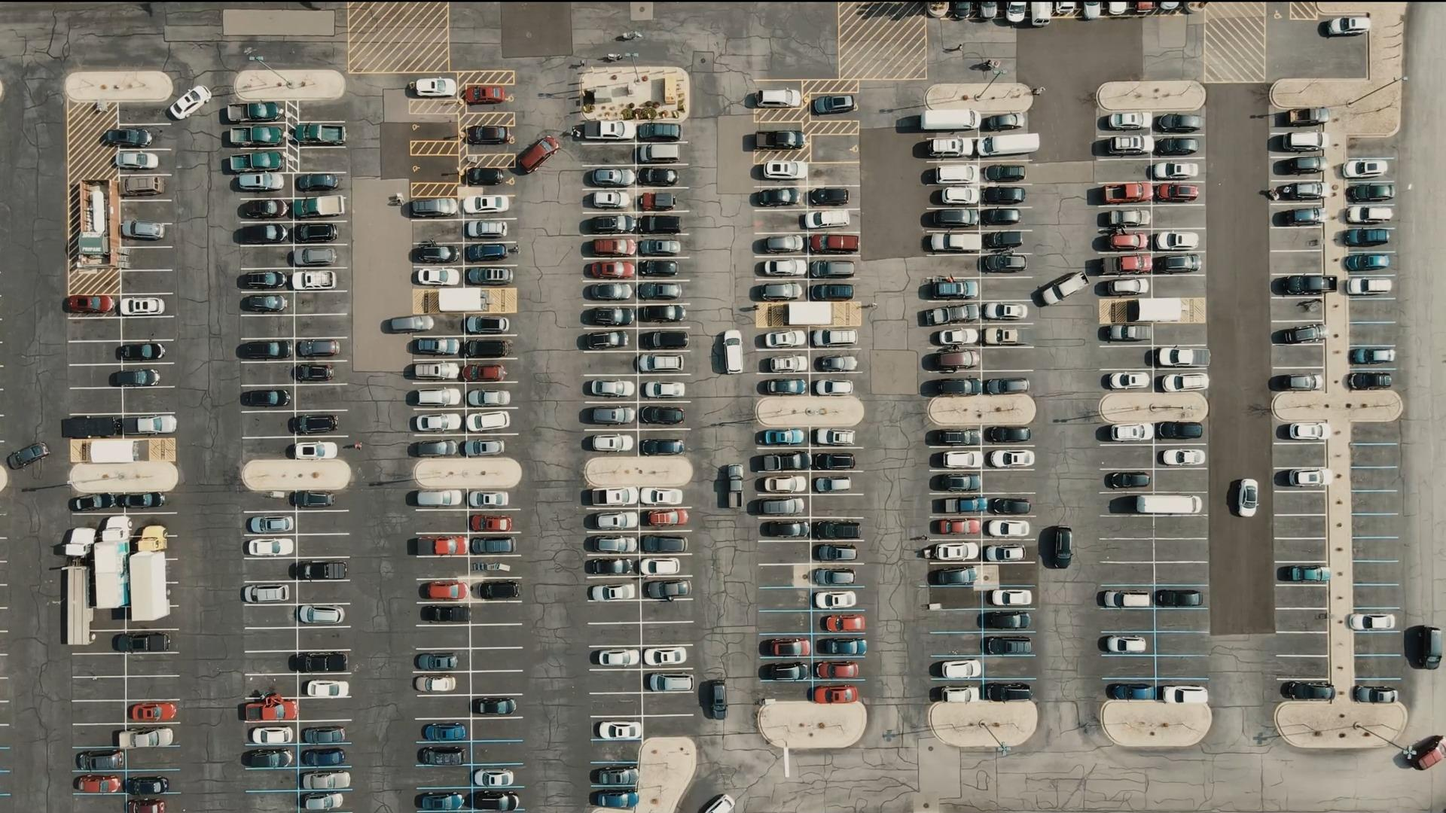occupied: (515, 135, 560, 175), (1036, 272, 1087, 307), (1405, 625, 1443, 669), (167, 84, 212, 120), (244, 696, 297, 722), (7, 442, 51, 470), (293, 123, 346, 145), (1281, 680, 1336, 701), (292, 652, 347, 673), (230, 126, 284, 147), (1230, 478, 1259, 517), (224, 154, 280, 174), (113, 633, 170, 652), (230, 102, 284, 122), (720, 329, 743, 375), (297, 195, 345, 217), (295, 561, 347, 581), (1049, 526, 1073, 569), (1322, 16, 1371, 37), (242, 749, 293, 769), (1285, 274, 1336, 294), (582, 121, 633, 141), (129, 701, 177, 722), (61, 528, 98, 555), (475, 790, 520, 812), (241, 199, 288, 220), (125, 728, 174, 748), (984, 683, 1033, 703), (1343, 159, 1392, 179), (77, 751, 123, 772), (418, 746, 466, 766), (302, 770, 350, 790), (417, 792, 467, 811), (112, 369, 162, 388), (64, 296, 114, 315), (123, 174, 166, 196), (1281, 131, 1326, 152), (291, 414, 338, 434), (935, 323, 977, 345), (302, 747, 348, 767), (1107, 683, 1158, 701), (105, 128, 153, 147), (1281, 325, 1329, 344), (297, 605, 345, 624), (74, 774, 122, 793), (117, 343, 165, 362), (410, 198, 458, 217), (812, 94, 855, 115), (812, 215, 855, 236), (934, 142, 977, 163), (932, 207, 975, 228), (939, 232, 982, 253), (984, 323, 1027, 344), (981, 234, 1024, 255), (938, 282, 981, 303), (978, 260, 1021, 281), (979, 303, 1022, 324), (984, 376, 1027, 397), (932, 372, 975, 393), (927, 348, 970, 369), (1283, 469, 1333, 487), (938, 659, 983, 679), (1345, 204, 1390, 224), (461, 85, 508, 104), (1284, 107, 1331, 126), (1162, 685, 1209, 704), (243, 584, 290, 603), (1345, 253, 1392, 272), (758, 130, 805, 149), (939, 182, 981, 203), (935, 163, 977, 184), (800, 184, 842, 205), (121, 219, 165, 239), (1106, 135, 1150, 155), (813, 684, 857, 704), (1155, 110, 1199, 130), (1160, 183, 1204, 203), (1107, 209, 1151, 229), (1091, 182, 1135, 202), (1159, 189, 1203, 209), (1108, 251, 1152, 271), (1094, 229, 1138, 249), (1150, 239, 1194, 259), (1152, 158, 1196, 178), (1272, 156, 1316, 176), (1277, 179, 1321, 199), (1155, 453, 1199, 473), (1161, 422, 1205, 442), (124, 776, 170, 795), (1286, 422, 1332, 441), (594, 767, 640, 786), (1346, 277, 1392, 296), (595, 721, 641, 740), (291, 441, 337, 460), (1105, 112, 1151, 131), (295, 173, 343, 191), (1278, 208, 1326, 226), (236, 172, 284, 190), (72, 493, 120, 511), (1159, 348, 1207, 366), (299, 336, 342, 356), (248, 387, 291, 407), (423, 723, 468, 742), (756, 88, 801, 107), (302, 727, 347, 746), (594, 790, 639, 809), (249, 726, 294, 745), (1280, 565, 1330, 582), (1156, 590, 1203, 608), (1350, 347, 1397, 365), (241, 271, 288, 289), (414, 77, 456, 97), (301, 792, 343, 812), (644, 164, 686, 184), (643, 213, 685, 233), (637, 234, 679, 254), (760, 263, 802, 283), (810, 354, 852, 374), (938, 452, 980, 472), (996, 449, 1038, 469), (991, 494, 1033, 514), (990, 638, 1032, 658), (767, 657, 809, 677), (814, 633, 856, 653), (305, 679, 349, 698), (133, 415, 177, 434), (467, 126, 513, 144), (1348, 612, 1394, 630), (648, 673, 694, 691), (242, 295, 288, 313), (1107, 424, 1153, 442), (246, 538, 292, 556), (1104, 371, 1150, 389), (643, 188, 684, 208), (753, 221, 794, 241), (985, 549, 1026, 569), (986, 520, 1027, 540), (818, 660, 859, 680), (817, 567, 858, 587), (121, 297, 164, 316), (938, 685, 981, 704), (293, 271, 336, 290), (289, 357, 332, 376), (244, 339, 287, 358), (1102, 591, 1150, 608), (473, 697, 518, 715), (1349, 372, 1394, 390), (1103, 635, 1148, 653), (634, 380, 679, 398), (461, 698, 506, 716), (413, 263, 458, 281), (639, 143, 681, 162), (641, 284, 683, 303), (639, 243, 681, 262), (641, 256, 683, 275), (751, 187, 793, 206), (764, 154, 806, 173), (815, 276, 857, 295), (810, 234, 852, 253), (938, 475, 980, 494), (943, 499, 985, 518), (935, 521, 977, 540), (939, 429, 981, 448), (930, 570, 972, 589), (987, 618, 1029, 637), (984, 684, 1026, 703), (764, 638, 806, 657), (809, 683, 851, 702), (814, 542, 856, 561), (815, 516, 857, 535), (759, 519, 801, 538), (811, 475, 853, 494), (1353, 686, 1397, 704), (116, 151, 160, 169), (416, 653, 460, 671), (468, 533, 512, 551), (410, 436, 454, 454), (464, 431, 508, 449), (1274, 374, 1323, 390), (1104, 325, 1150, 342), (410, 339, 456, 356), (466, 313, 512, 330), (587, 212, 633, 229), (582, 192, 628, 209), (591, 381, 637, 398), (588, 433, 634, 450), (580, 235, 626, 252), (584, 511, 630, 528), (639, 488, 685, 505), (643, 561, 689, 578), (760, 496, 806, 513), (765, 469, 811, 486), (584, 260, 630, 277), (586, 279, 632, 296), (643, 304, 689, 321), (577, 309, 623, 326), (767, 351, 813, 368), (762, 377, 808, 394), (640, 407, 686, 424), (634, 353, 680, 370), (821, 612, 862, 631), (812, 449, 853, 468), (466, 168, 511, 185), (247, 516, 292, 533), (389, 315, 434, 332), (410, 364, 455, 381), (471, 360, 516, 377), (467, 337, 512, 354), (584, 171, 629, 188), (587, 493, 632, 510), (650, 508, 695, 525), (758, 434, 803, 451), (574, 578, 619, 595), (571, 336, 616, 353), (671, 325, 716, 342), (810, 428, 855, 445), (640, 433, 685, 450), (479, 583, 524, 600), (470, 191, 515, 208), (416, 245, 461, 262), (464, 218, 509, 235), (474, 768, 514, 787), (697, 793, 735, 813), (419, 680, 463, 697), (416, 581, 460, 598), (418, 598, 462, 615), (415, 535, 459, 552), (472, 265, 516, 282), (456, 241, 500, 258), (292, 491, 335, 508), (1107, 472, 1152, 488), (711, 680, 729, 720), (1106, 275, 1150, 291), (127, 798, 167, 813), (1006, 0, 1028, 23), (1054, 0, 1077, 17), (952, 0, 972, 19), (1082, 0, 1102, 19), (979, 0, 998, 19), (1106, 0, 1128, 16)
